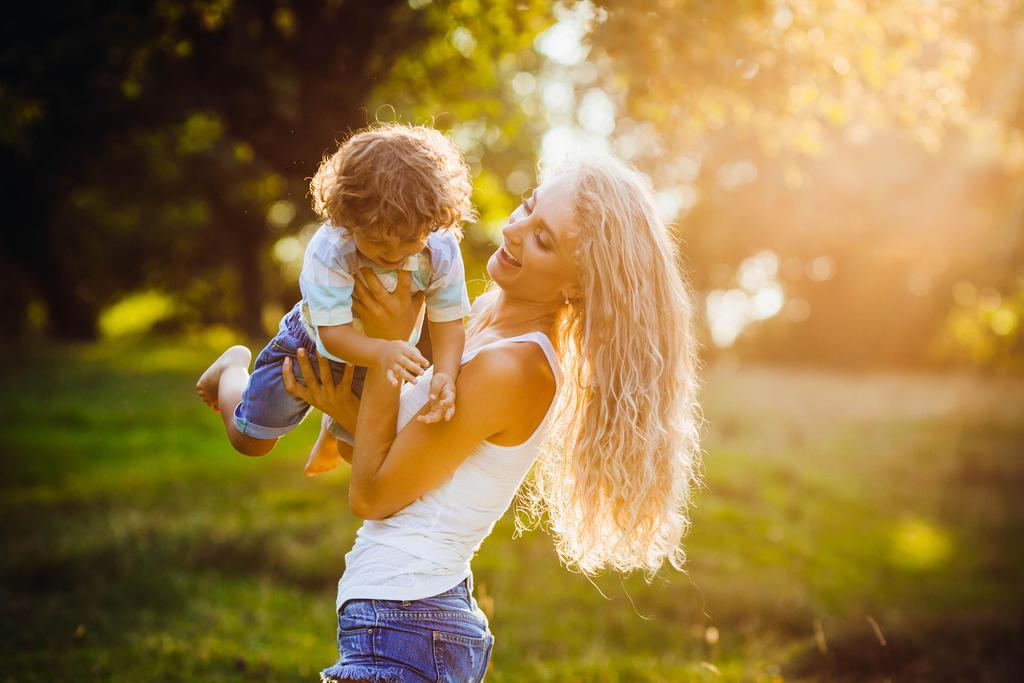child: (184, 105, 479, 471)
